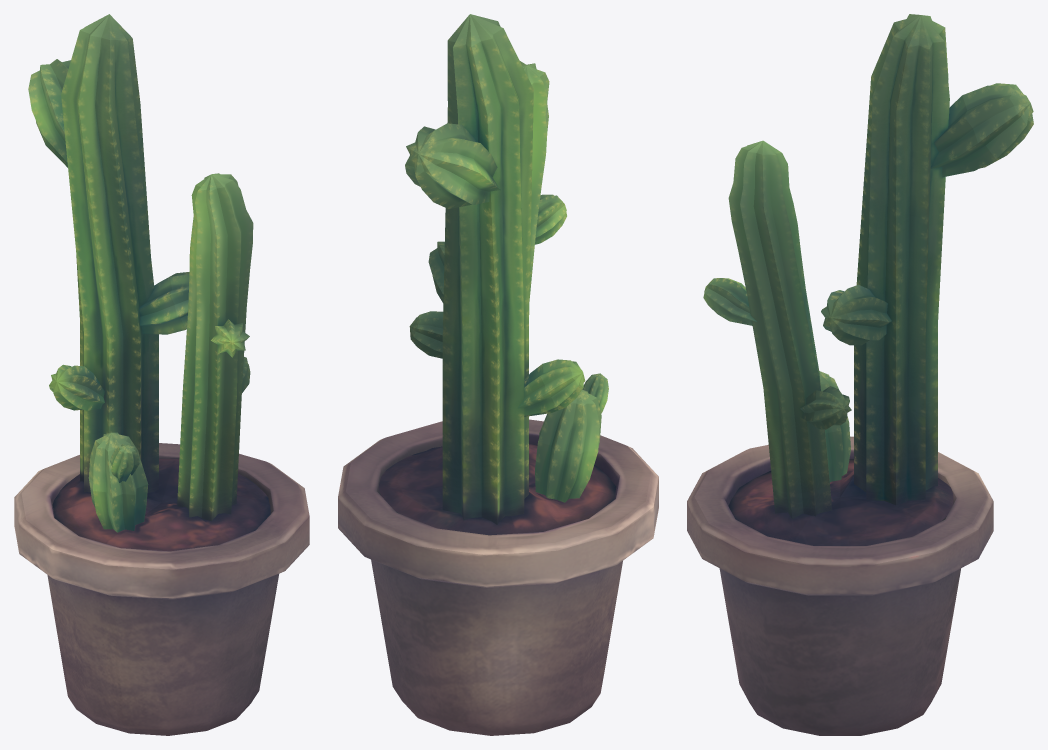
The model's file is cactus.glb.
3 views of the same model, side by side, from view 1: azimuth 30°, elevation 25°; view 2: azimuth 150°, elevation 25°; view 3: azimuth 270°, elevation 25° (orthographic). The views are drawn at different scales.
Visible parts, largest first — view 1: pCylinder23; view 2: pCylinder23; view 3: pCylinder23.
Boxes of the visible parts, <box> form: pCylinder23: <box>14,14,309,735</box>; pCylinder23: <box>338,14,658,735</box>; pCylinder23: <box>687,14,1033,735</box>.
Size of the model in its own units: 2.65 by 6.67 by 3.07.
Materials: 1 (1 with a texture image).
